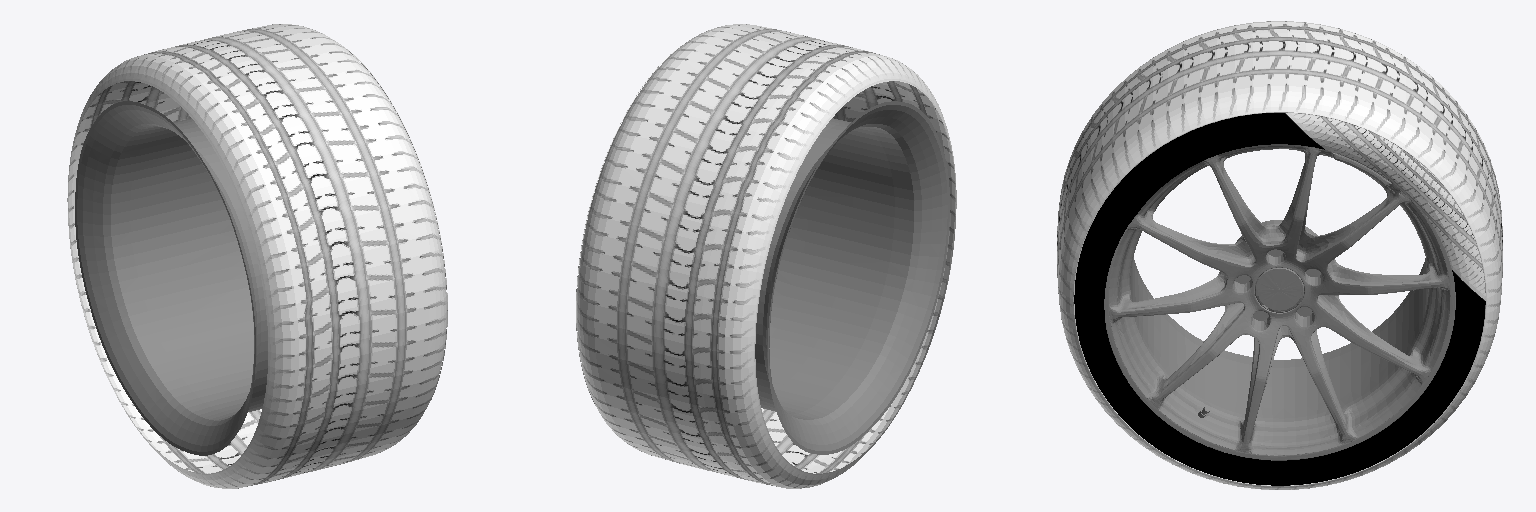
The picture shows the model from 3 angles: view 1: azimuth 30°, elevation 25°; view 2: azimuth 150°, elevation 25°; view 3: azimuth 270°, elevation 25°; orthographic projection.
Visible parts, largest first — view 1: LLANTA_FINAL001, LLANTA_FINAL; view 2: LLANTA_FINAL001, LLANTA_FINAL; view 3: LLANTA_FINAL001, LLANTA_FINAL.
Part boxes in pixels (x1,y1,x2,y2): LLANTA_FINAL001: (67,24,447,488); LLANTA_FINAL: (75,101,267,455); LLANTA_FINAL001: (576,24,956,488); LLANTA_FINAL: (755,101,949,454); LLANTA_FINAL001: (1057,21,1502,489); LLANTA_FINAL: (1104,144,1455,460).
Size of the model in its own units: 0.3274 by 0.6762 by 0.6767.
Materials: 2 (1 with a texture image).